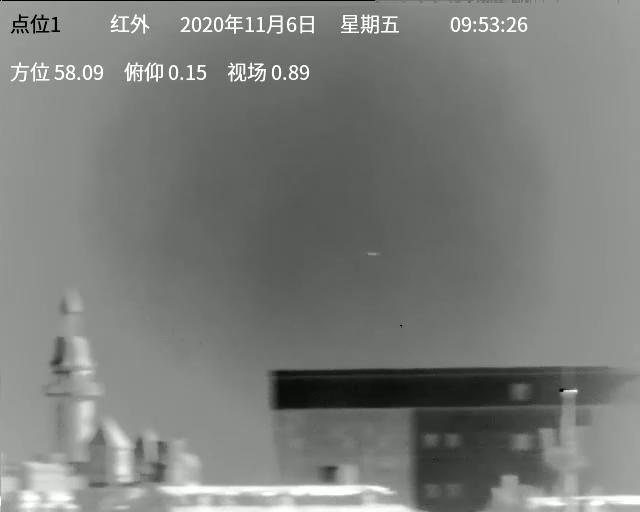uav: (366, 252, 382, 258)
